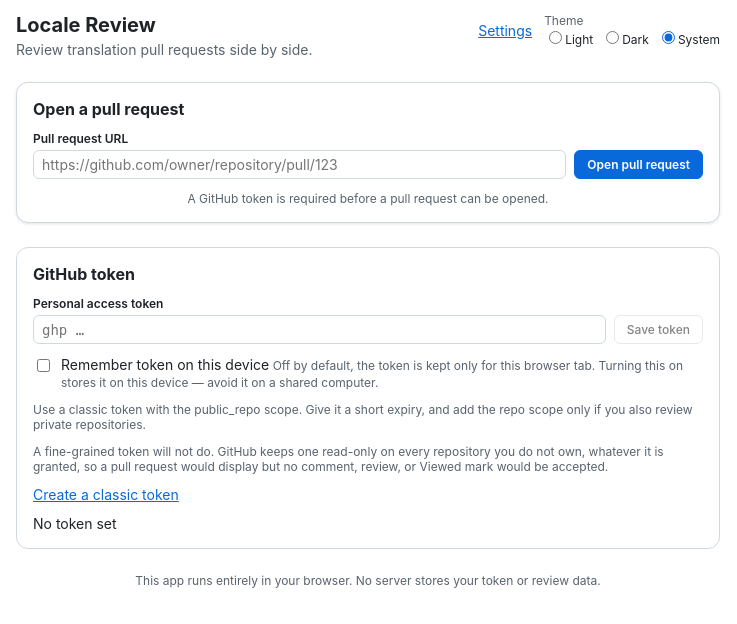
Test case: StartScreen without a token › refuses to open a pull request and says a token is required
The image size is (737, 624).
In the field labelled "Pull request URL": [300, 165] box 33,150 -> 566,179, type "https://github.com/acme/docs/pull/7"
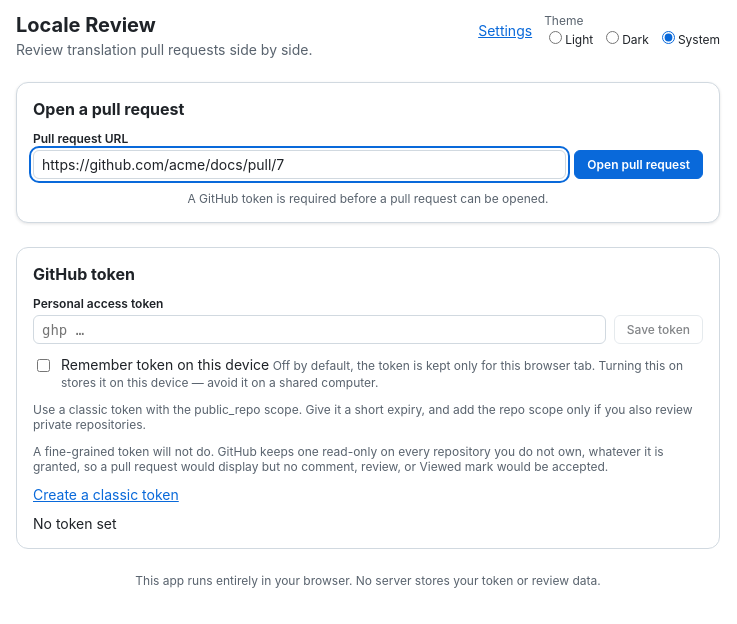
Click the button "Open pull request": [639, 165] box 574,150 -> 703,179
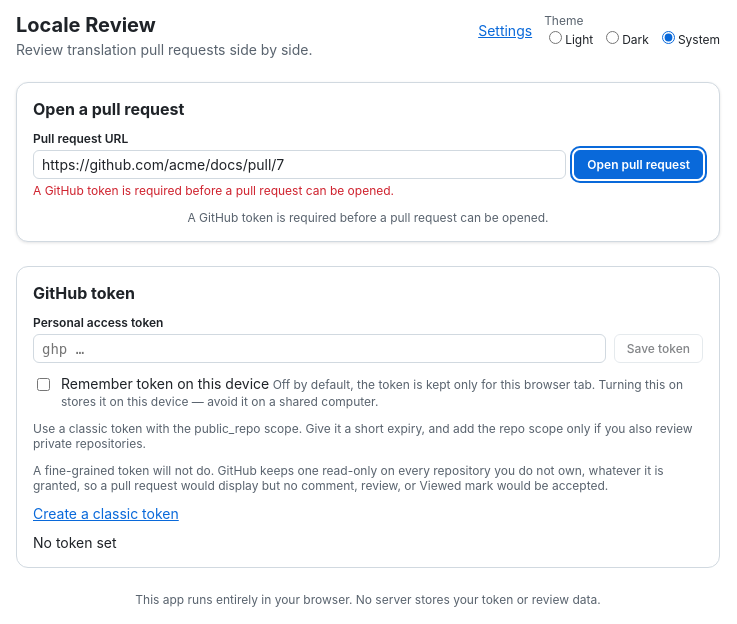
Expected: the message shows "token is required", 33,183 -> 394,198
